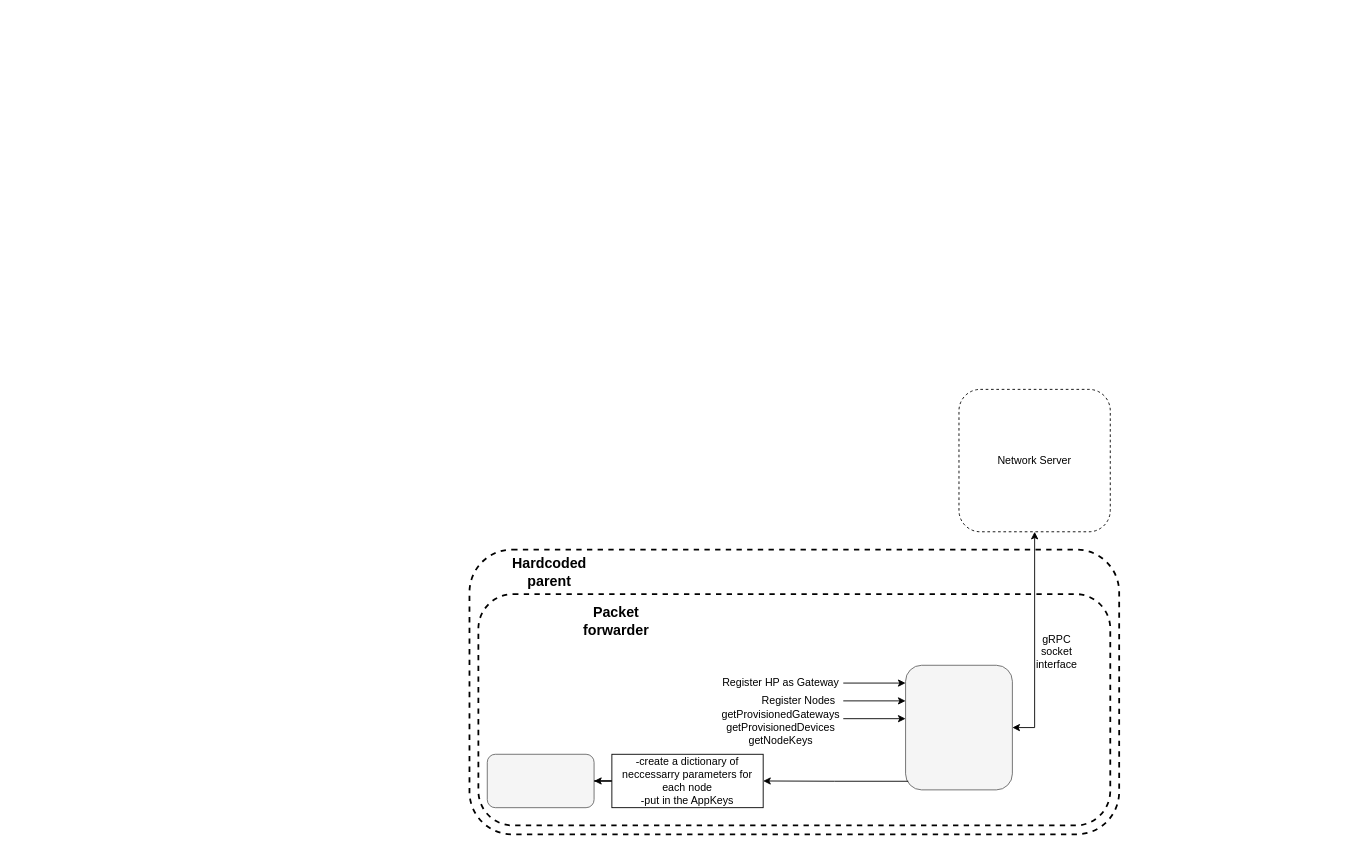
The diagram is 1365 pixels wide and 858 high, and some of its shapes have lost their labels. Here are the shapes that lost their labels. From the top down, the centre of each, then its label:
At [958,727]: "gRPC API".
At [540,780]: "NSQueueCheck".
